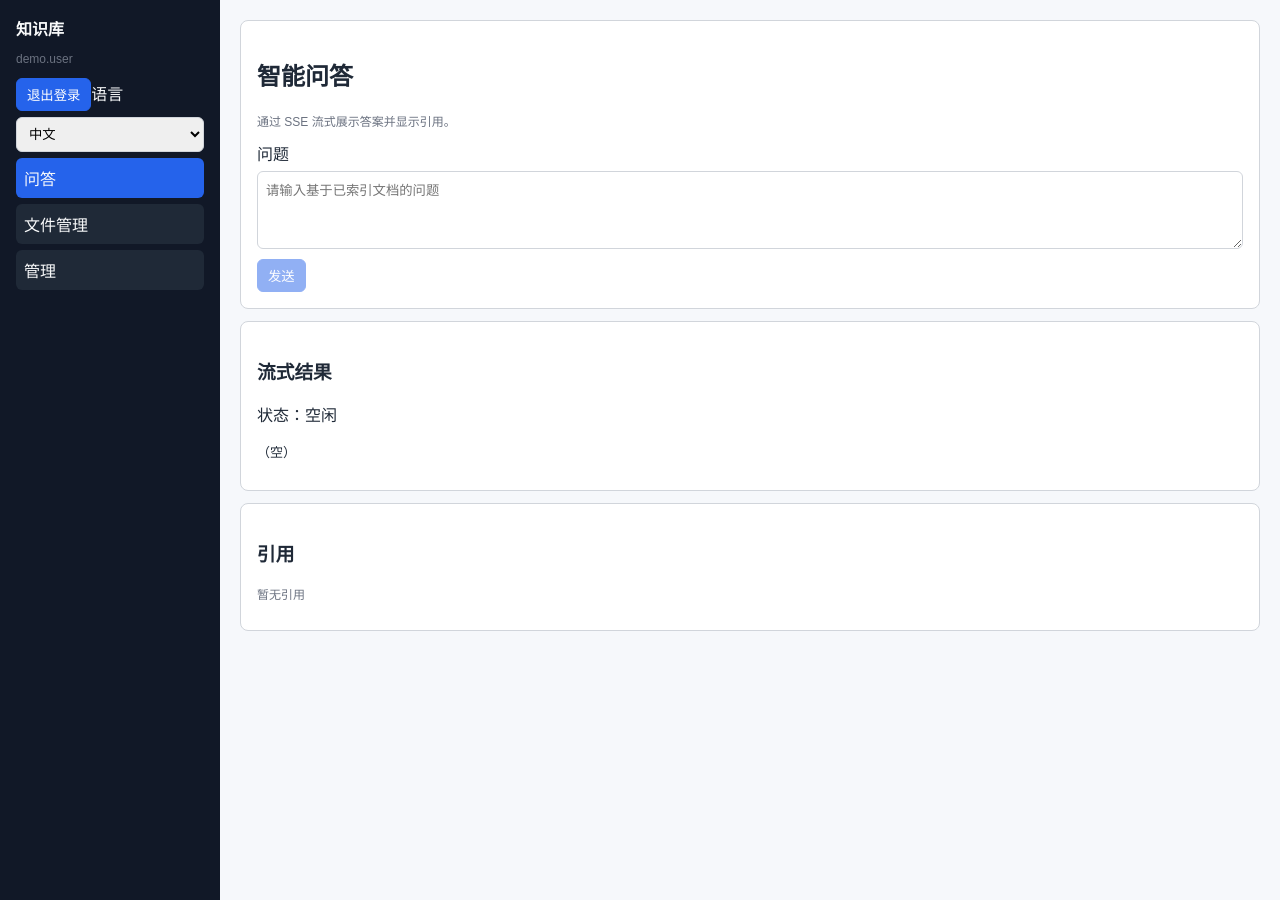
Test case: locale switch › switches from Chinese to English labels
Expected: the link "问答" is shown, [16, 158, 204, 198]
Select "English" in the dropdown labelled "语言" at (110, 134), box [16, 117, 204, 152]
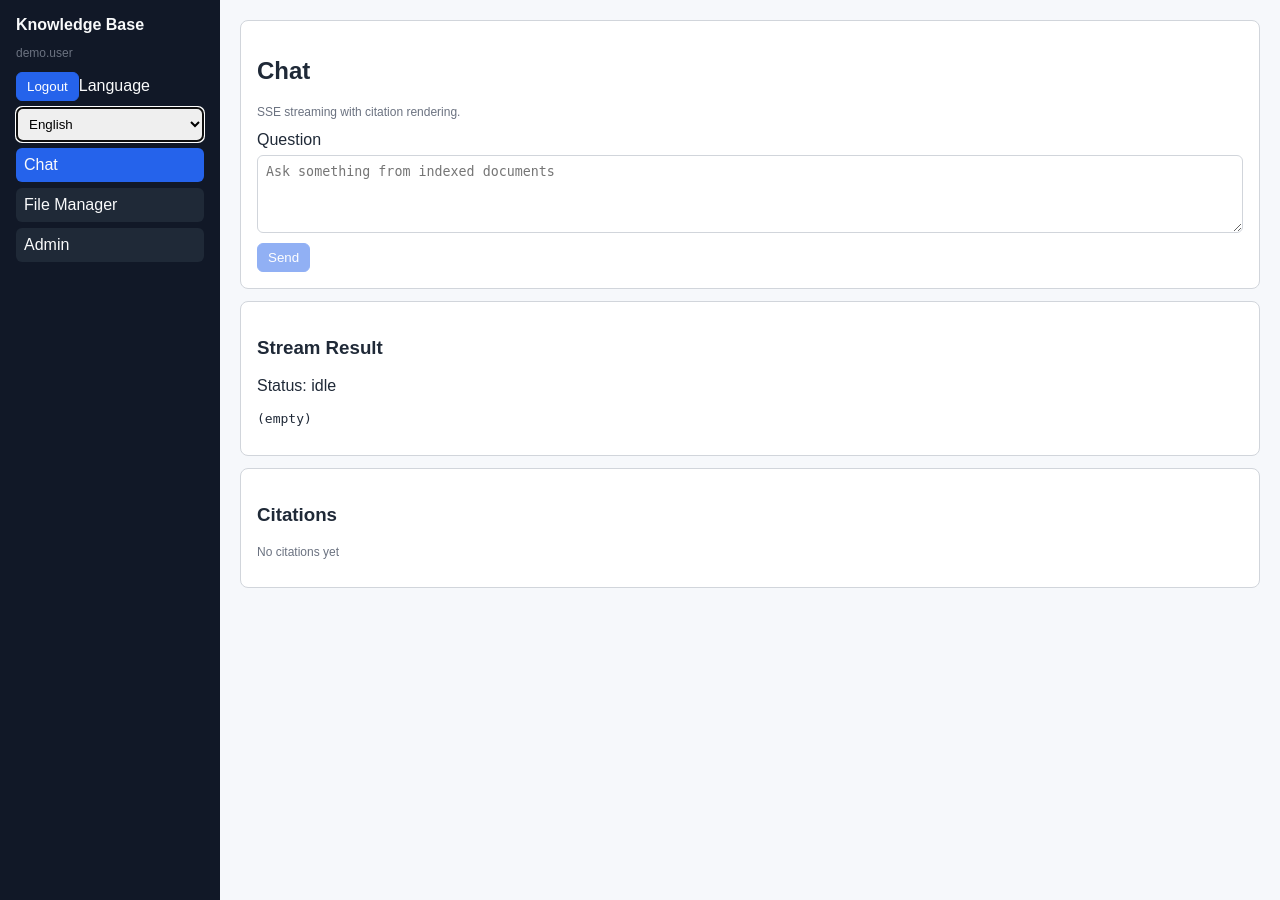
Expected: the link "Chat" is shown, [16, 148, 204, 182]
Expected: the button "Logout" is shown, [16, 72, 79, 101]
